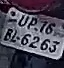1: (38, 20, 47, 35)
2: (28, 35, 40, 50)
3: (48, 40, 60, 56)
6: (43, 22, 55, 38), (20, 31, 31, 48), (39, 39, 50, 52)
B: (3, 29, 12, 42)
L: (8, 31, 18, 44)
P: (24, 17, 38, 30)
U: (16, 14, 30, 28)
